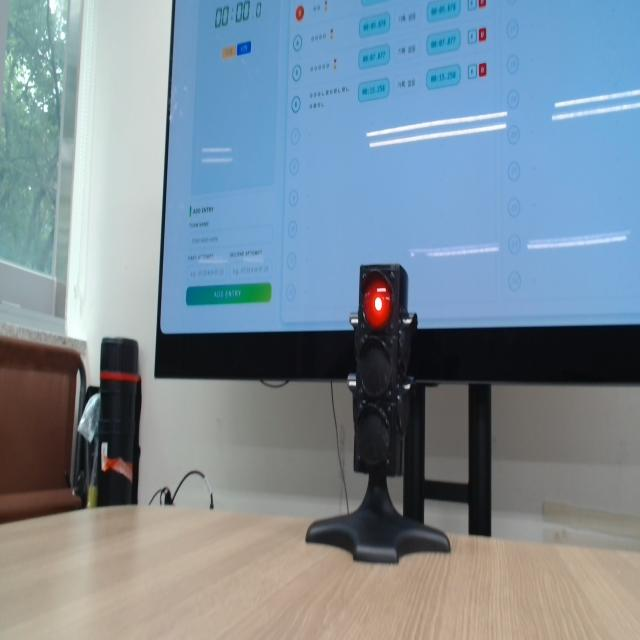red_light: (363, 275, 392, 330), (295, 5, 305, 22)
